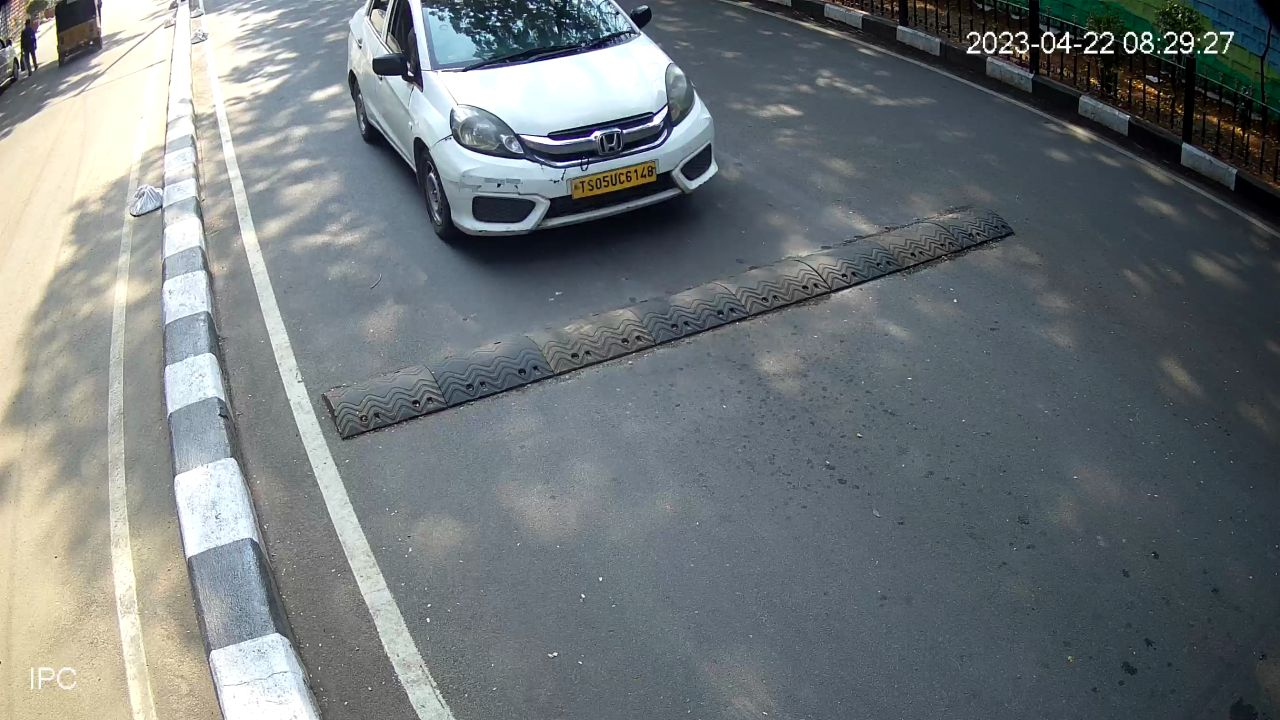license_plate: (563, 153, 663, 209)
